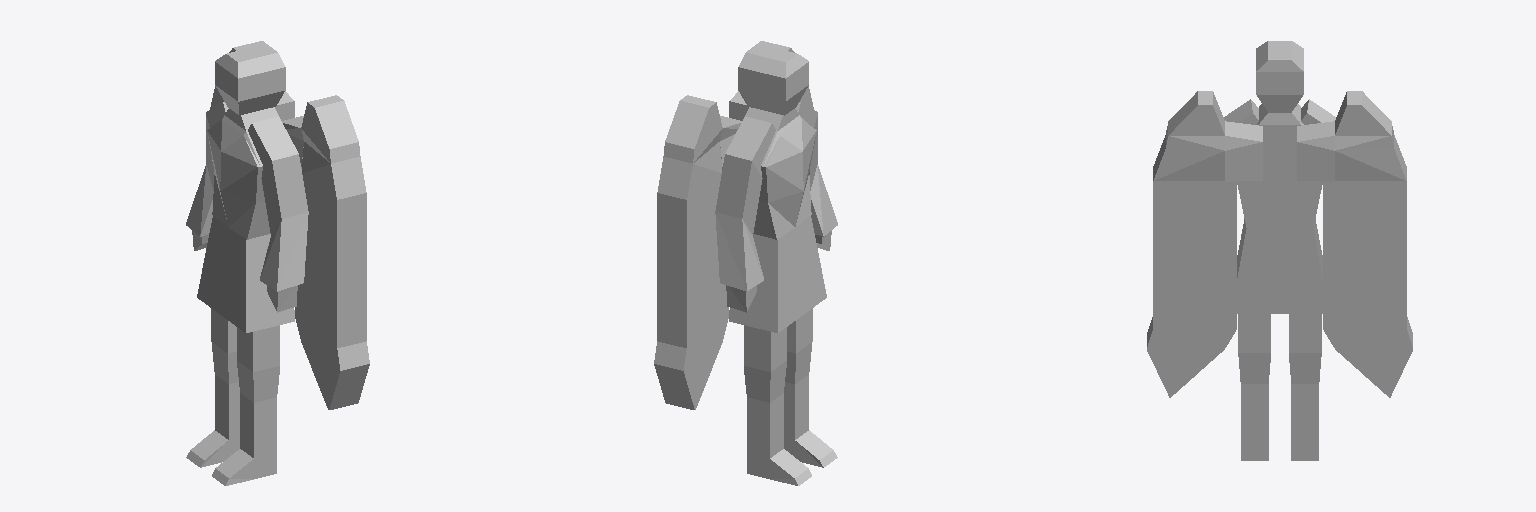
The model's file is michael.obj.
3 renders of one model, left to right at view 1: azimuth 30°, elevation 25°; view 2: azimuth 150°, elevation 25°; view 3: azimuth 270°, elevation 25°, orthographic.
Visible parts, largest first — view 1: Cube; view 2: Cube; view 3: Cube.
Boxes of the visible parts, x1=… form: Cube: x1=186, y1=41, x2=369, y2=485; Cube: x1=654, y1=41, x2=837, y2=485; Cube: x1=1147, y1=41, x2=1412, y2=460.
Size of the model in its own units: 1.09 by 4.23 by 2.51.